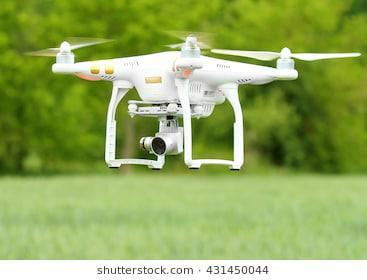drone: (24, 21, 363, 173)
